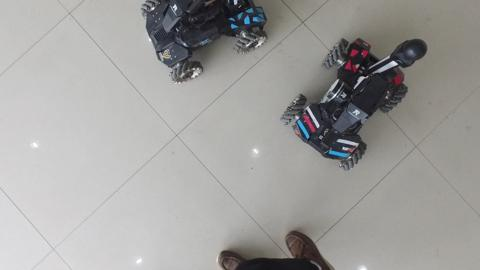chariot: (279, 30, 435, 181), (137, 1, 272, 88)
